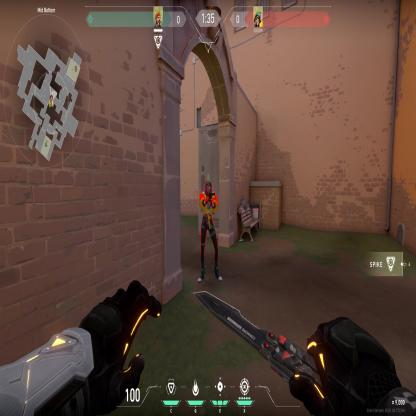enemy: (197, 173, 223, 285)
